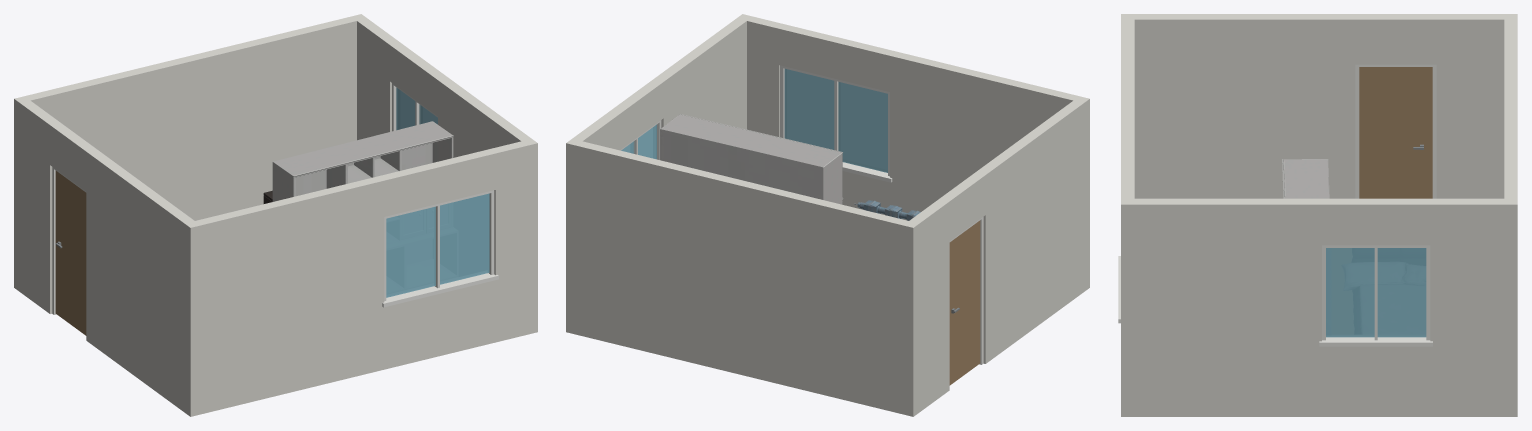
The model's file is layoutvlm.glb.
3 renders of one model, left to right at view 1: azimuth 30°, elevation 25°; view 2: azimuth 150°, elevation 25°; view 3: azimuth 270°, elevation 25°, orthographic. The views are drawn at different scales.
Visible parts, largest first — view 1: wall|scenesmith_064__R00|0, wall|scenesmith_064__R00|1, wall|scenesmith_064__R00|2, wall|scenesmith_064__R00|3, wall|scenesmith_064__R00|0 Window 0 | glazing, raw_model.003, wall|scenesmith_064__R00|2 Door 0 | wood leaf, wall|scenesmith_064__R00|0 Window 0 | jamb, wall|scenesmith_064__R00|3 Window 0 | glazing, wall|scenesmith_064__R00|2 Door 0 | jamb; view 2: wall|scenesmith_064__R00|1, wall|scenesmith_064__R00|2, wall|scenesmith_064__R00|0, wall|scenesmith_064__R00|3, raw_model.003, wall|scenesmith_064__R00|0 Window 0 | glazing, wall|scenesmith_064__R00|2 Door 0 | wood leaf, wall|scenesmith_064__R00|0 Window 0 | jamb, wall|scenesmith_064__R00|2 Door 0 | jamb, wall|scenesmith_064__R00|3 Window 0 | glazing, scenesmith_064__R00_radiator-0; view 3: wall|scenesmith_064__R00|3, wall|scenesmith_064__R00|2, wall|scenesmith_064__R00|2 Door 0 | wood leaf, wall|scenesmith_064__R00|3 Window 0 | glazing, wall|scenesmith_064__R00|1, wall|scenesmith_064__R00|3 Window 0 | jamb, wall|scenesmith_064__R00|0, raw_model.003, wall|scenesmith_064__R00|2 Door 0 | jamb.
Boxes of the visible parts, x1,y1,x2,y2 form: wall|scenesmith_064__R00|0: (195, 139, 537, 414); wall|scenesmith_064__R00|1: (14, 14, 366, 291); wall|scenesmith_064__R00|2: (14, 96, 200, 416); wall|scenesmith_064__R00|3: (353, 16, 536, 157); wall|scenesmith_064__R00|0 Window 0 | glazing: (386, 193, 489, 297); raw_model.003: (272, 121, 453, 201); wall|scenesmith_064__R00|2 Door 0 | wood leaf: (55, 170, 86, 335); wall|scenesmith_064__R00|0 Window 0 | jamb: (382, 190, 498, 307); wall|scenesmith_064__R00|3 Window 0 | glazing: (396, 87, 437, 130); wall|scenesmith_064__R00|2 Door 0 | jamb: (52, 167, 86, 314); wall|scenesmith_064__R00|1: (566, 139, 919, 416); wall|scenesmith_064__R00|2: (903, 96, 1089, 416); wall|scenesmith_064__R00|0: (737, 14, 1078, 220); wall|scenesmith_064__R00|3: (572, 14, 752, 150); raw_model.003: (660, 114, 843, 204); wall|scenesmith_064__R00|0 Window 0 | glazing: (784, 68, 887, 172); wall|scenesmith_064__R00|2 Door 0 | wood leaf: (949, 220, 980, 385); wall|scenesmith_064__R00|0 Window 0 | jamb: (780, 65, 892, 182); wall|scenesmith_064__R00|2 Door 0 | jamb: (949, 217, 983, 364); wall|scenesmith_064__R00|3 Window 0 | glazing: (621, 124, 656, 159); scenesmith_064__R00_radiator-0: (854, 200, 920, 220); wall|scenesmith_064__R00|3: (1121, 198, 1517, 416); wall|scenesmith_064__R00|2: (1121, 14, 1517, 198); wall|scenesmith_064__R00|2 Door 0 | wood leaf: (1359, 67, 1432, 198); wall|scenesmith_064__R00|3 Window 0 | glazing: (1326, 248, 1426, 337); wall|scenesmith_064__R00|1: (1504, 19, 1517, 416); wall|scenesmith_064__R00|3 Window 0 | jamb: (1319, 245, 1432, 346); wall|scenesmith_064__R00|0: (1121, 19, 1134, 204); raw_model.003: (1282, 159, 1329, 198); wall|scenesmith_064__R00|2 Door 0 | jamb: (1355, 64, 1436, 198).
Size of the model in its own units: 5.03 by 2.61 by 4.43.
10 materials, 4 textured.
